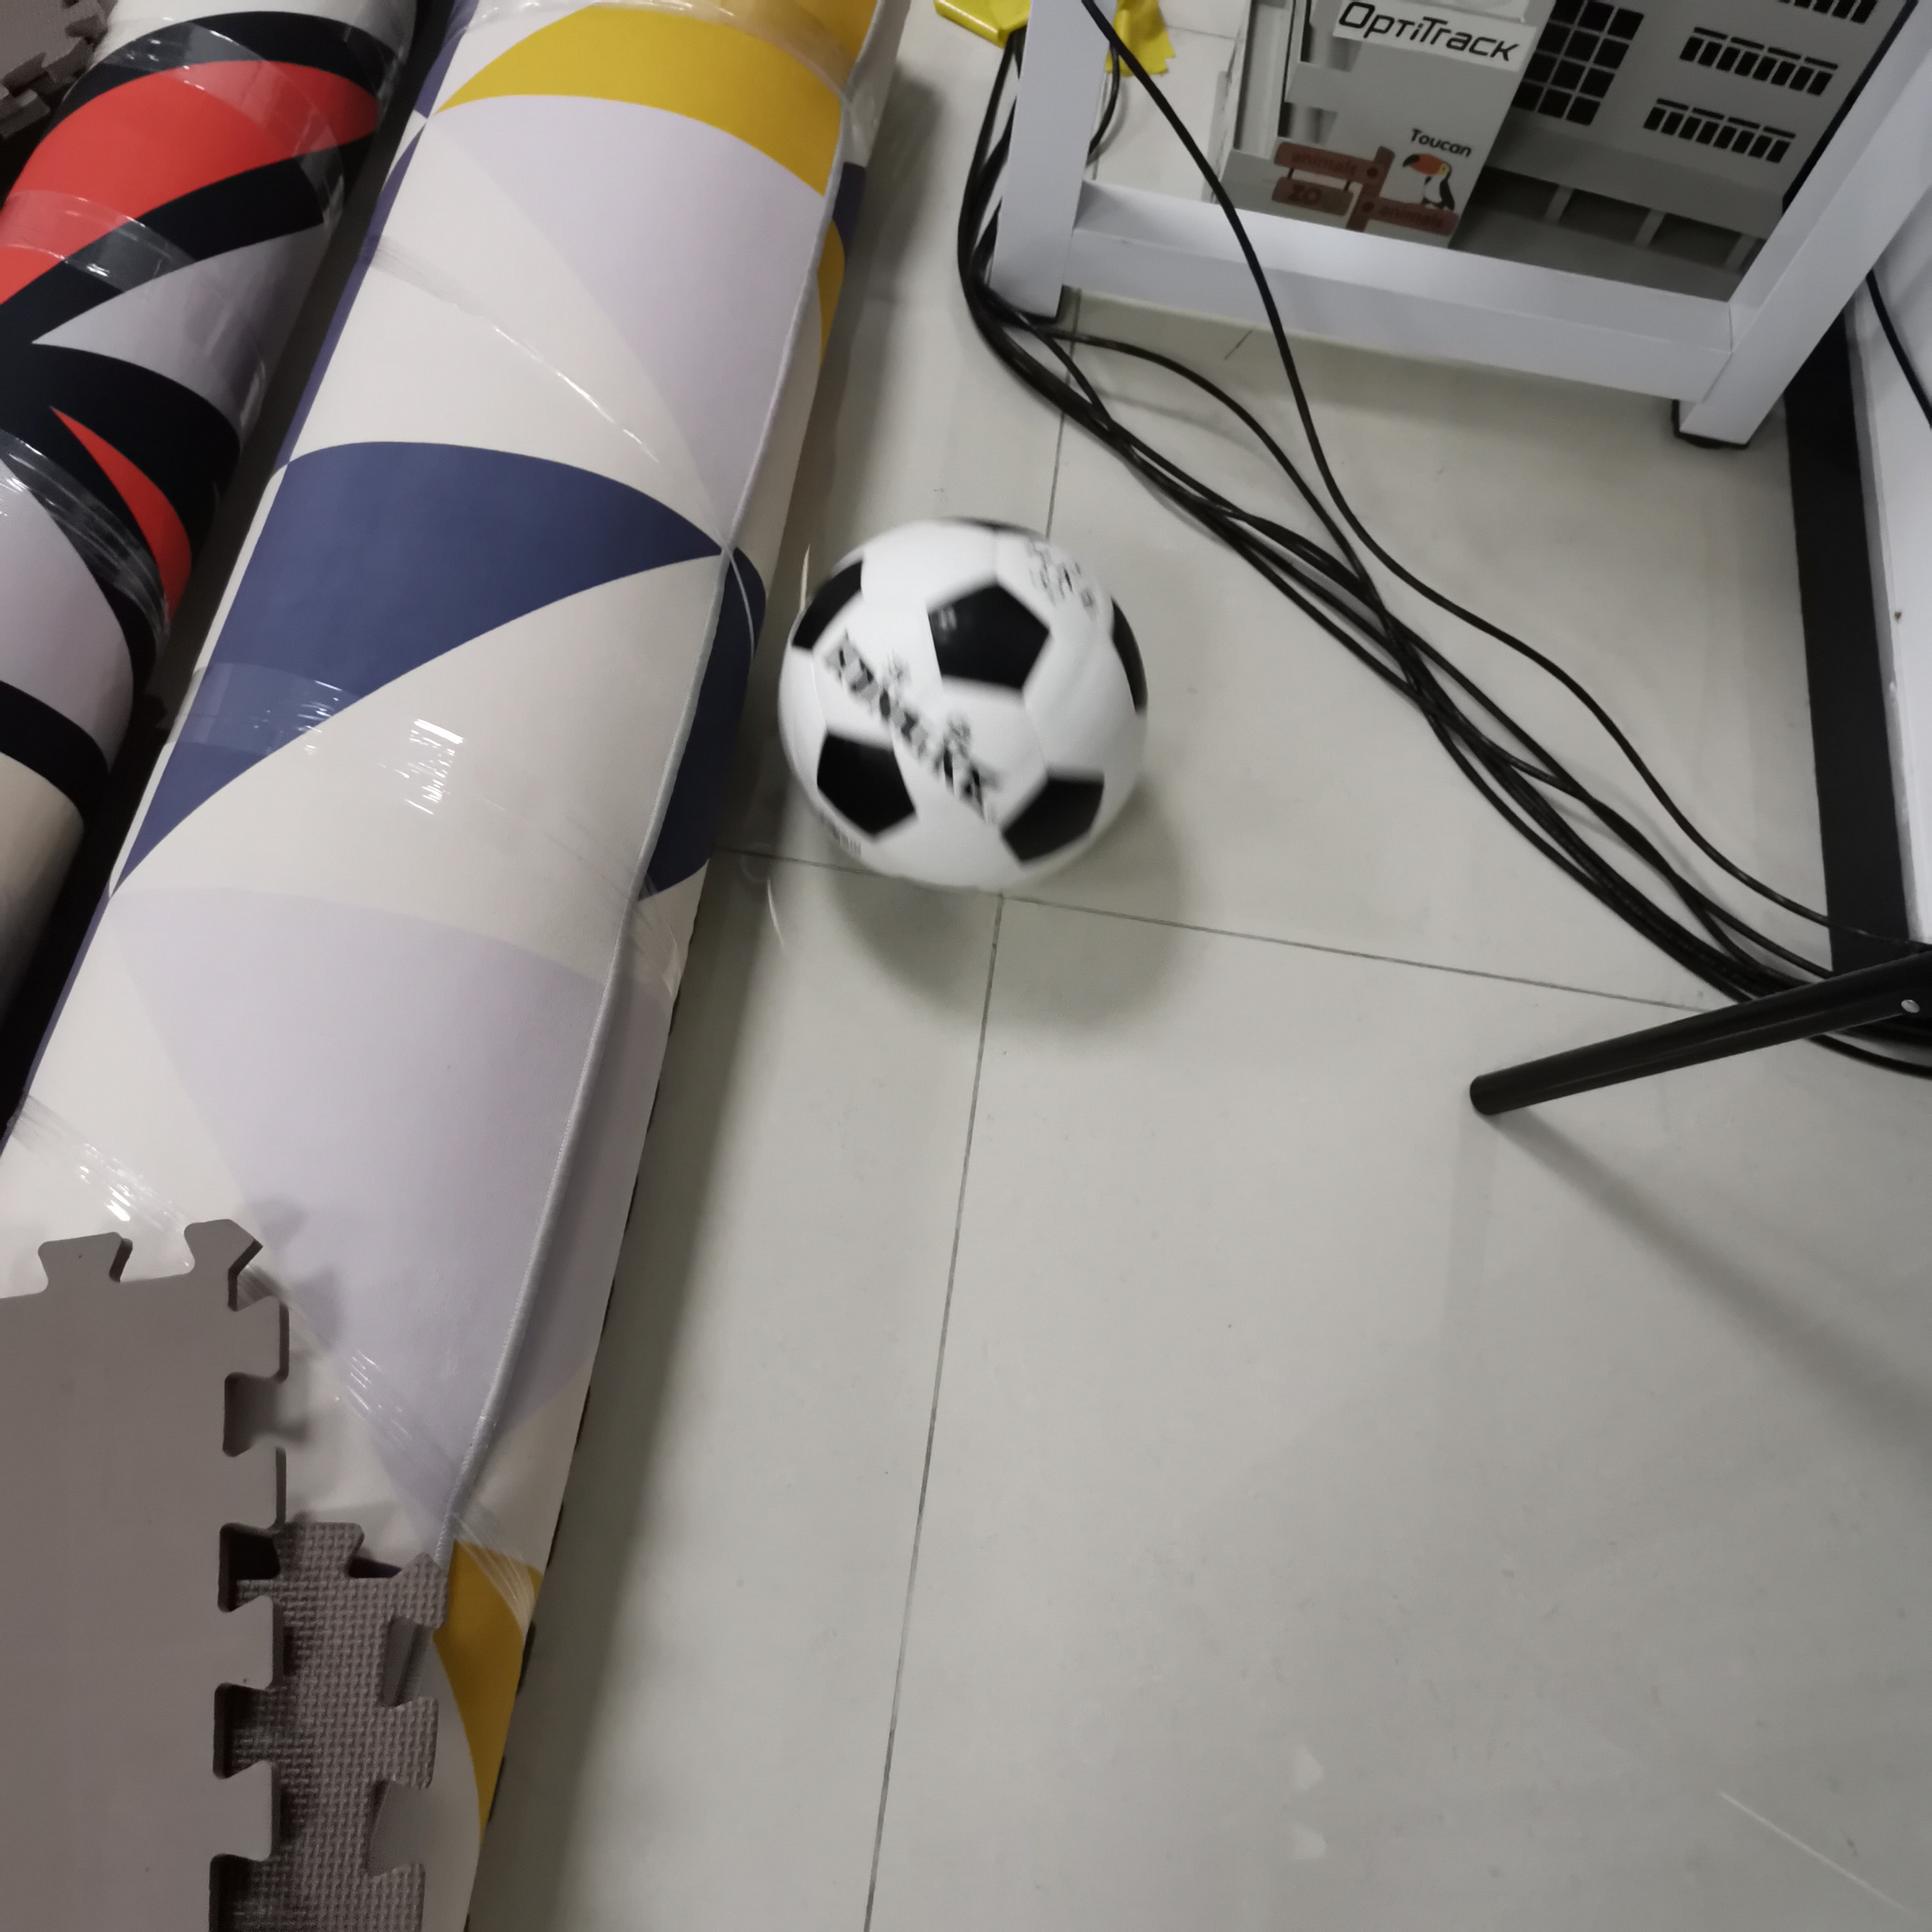football: (780, 522, 1155, 899)
